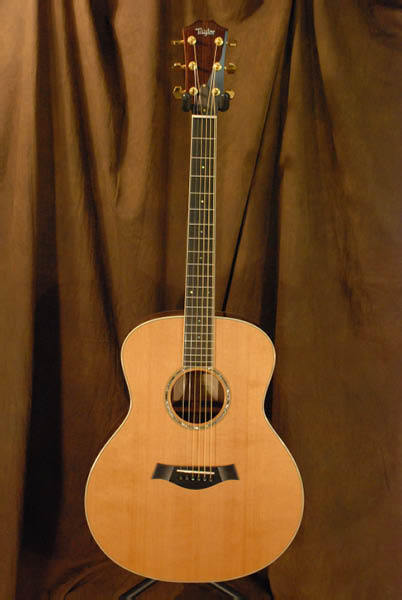guitar: (82, 21, 306, 586)
